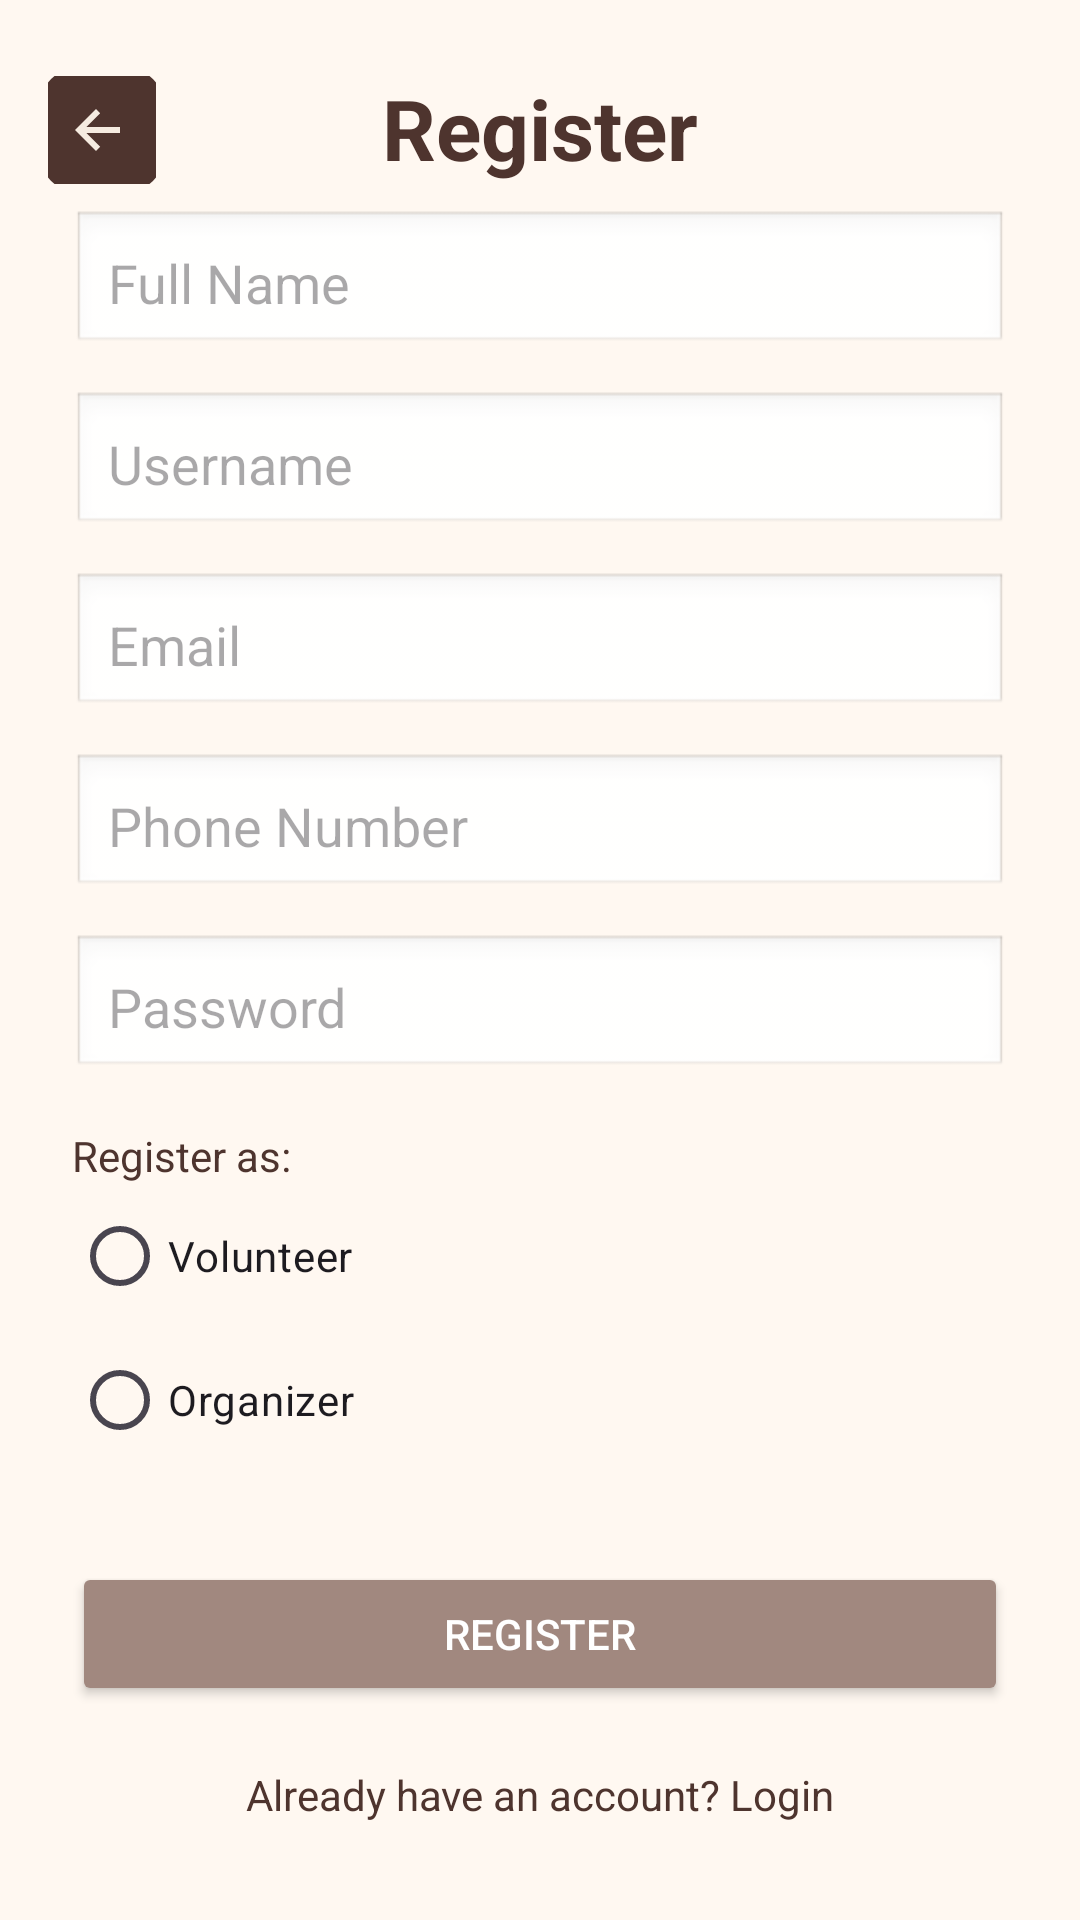

Where icons sit on this 1080x1920 app screen, as [x1=x1, y1=y1, x2=x2, y2=y2]:
Back: [x1=48, y1=76, x2=156, y2=184]
